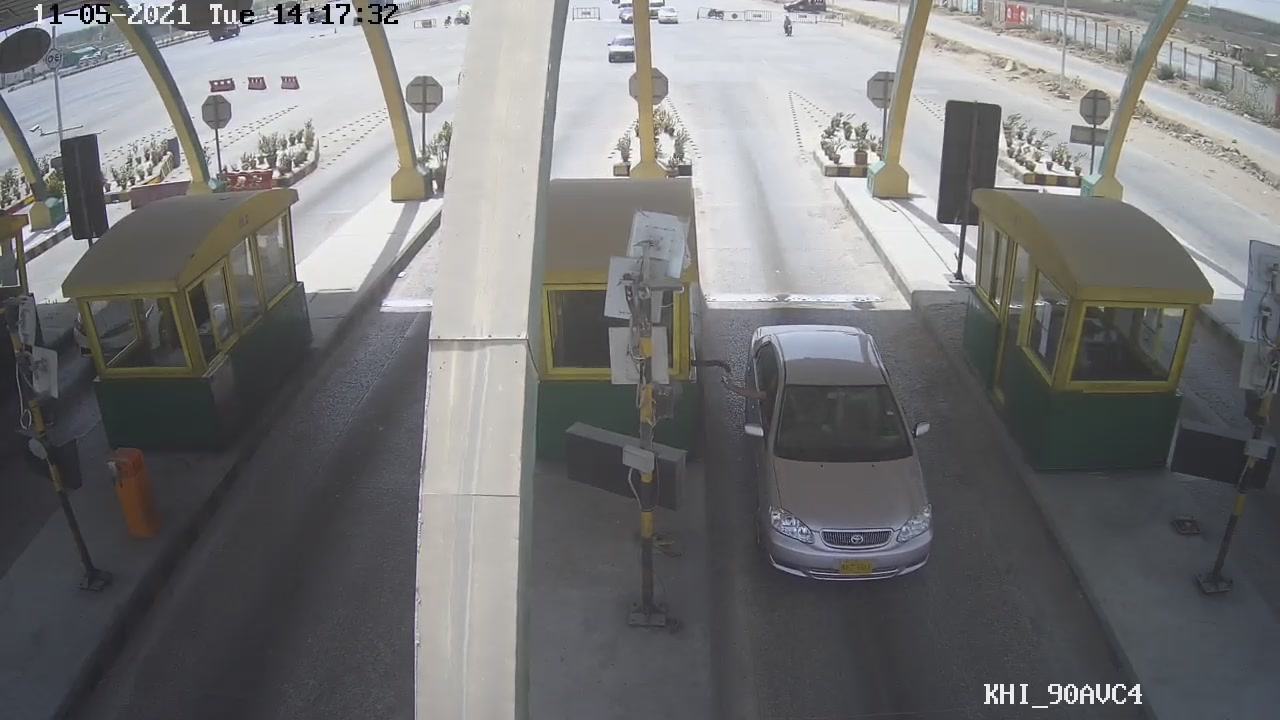F1: (734, 315, 931, 602)
